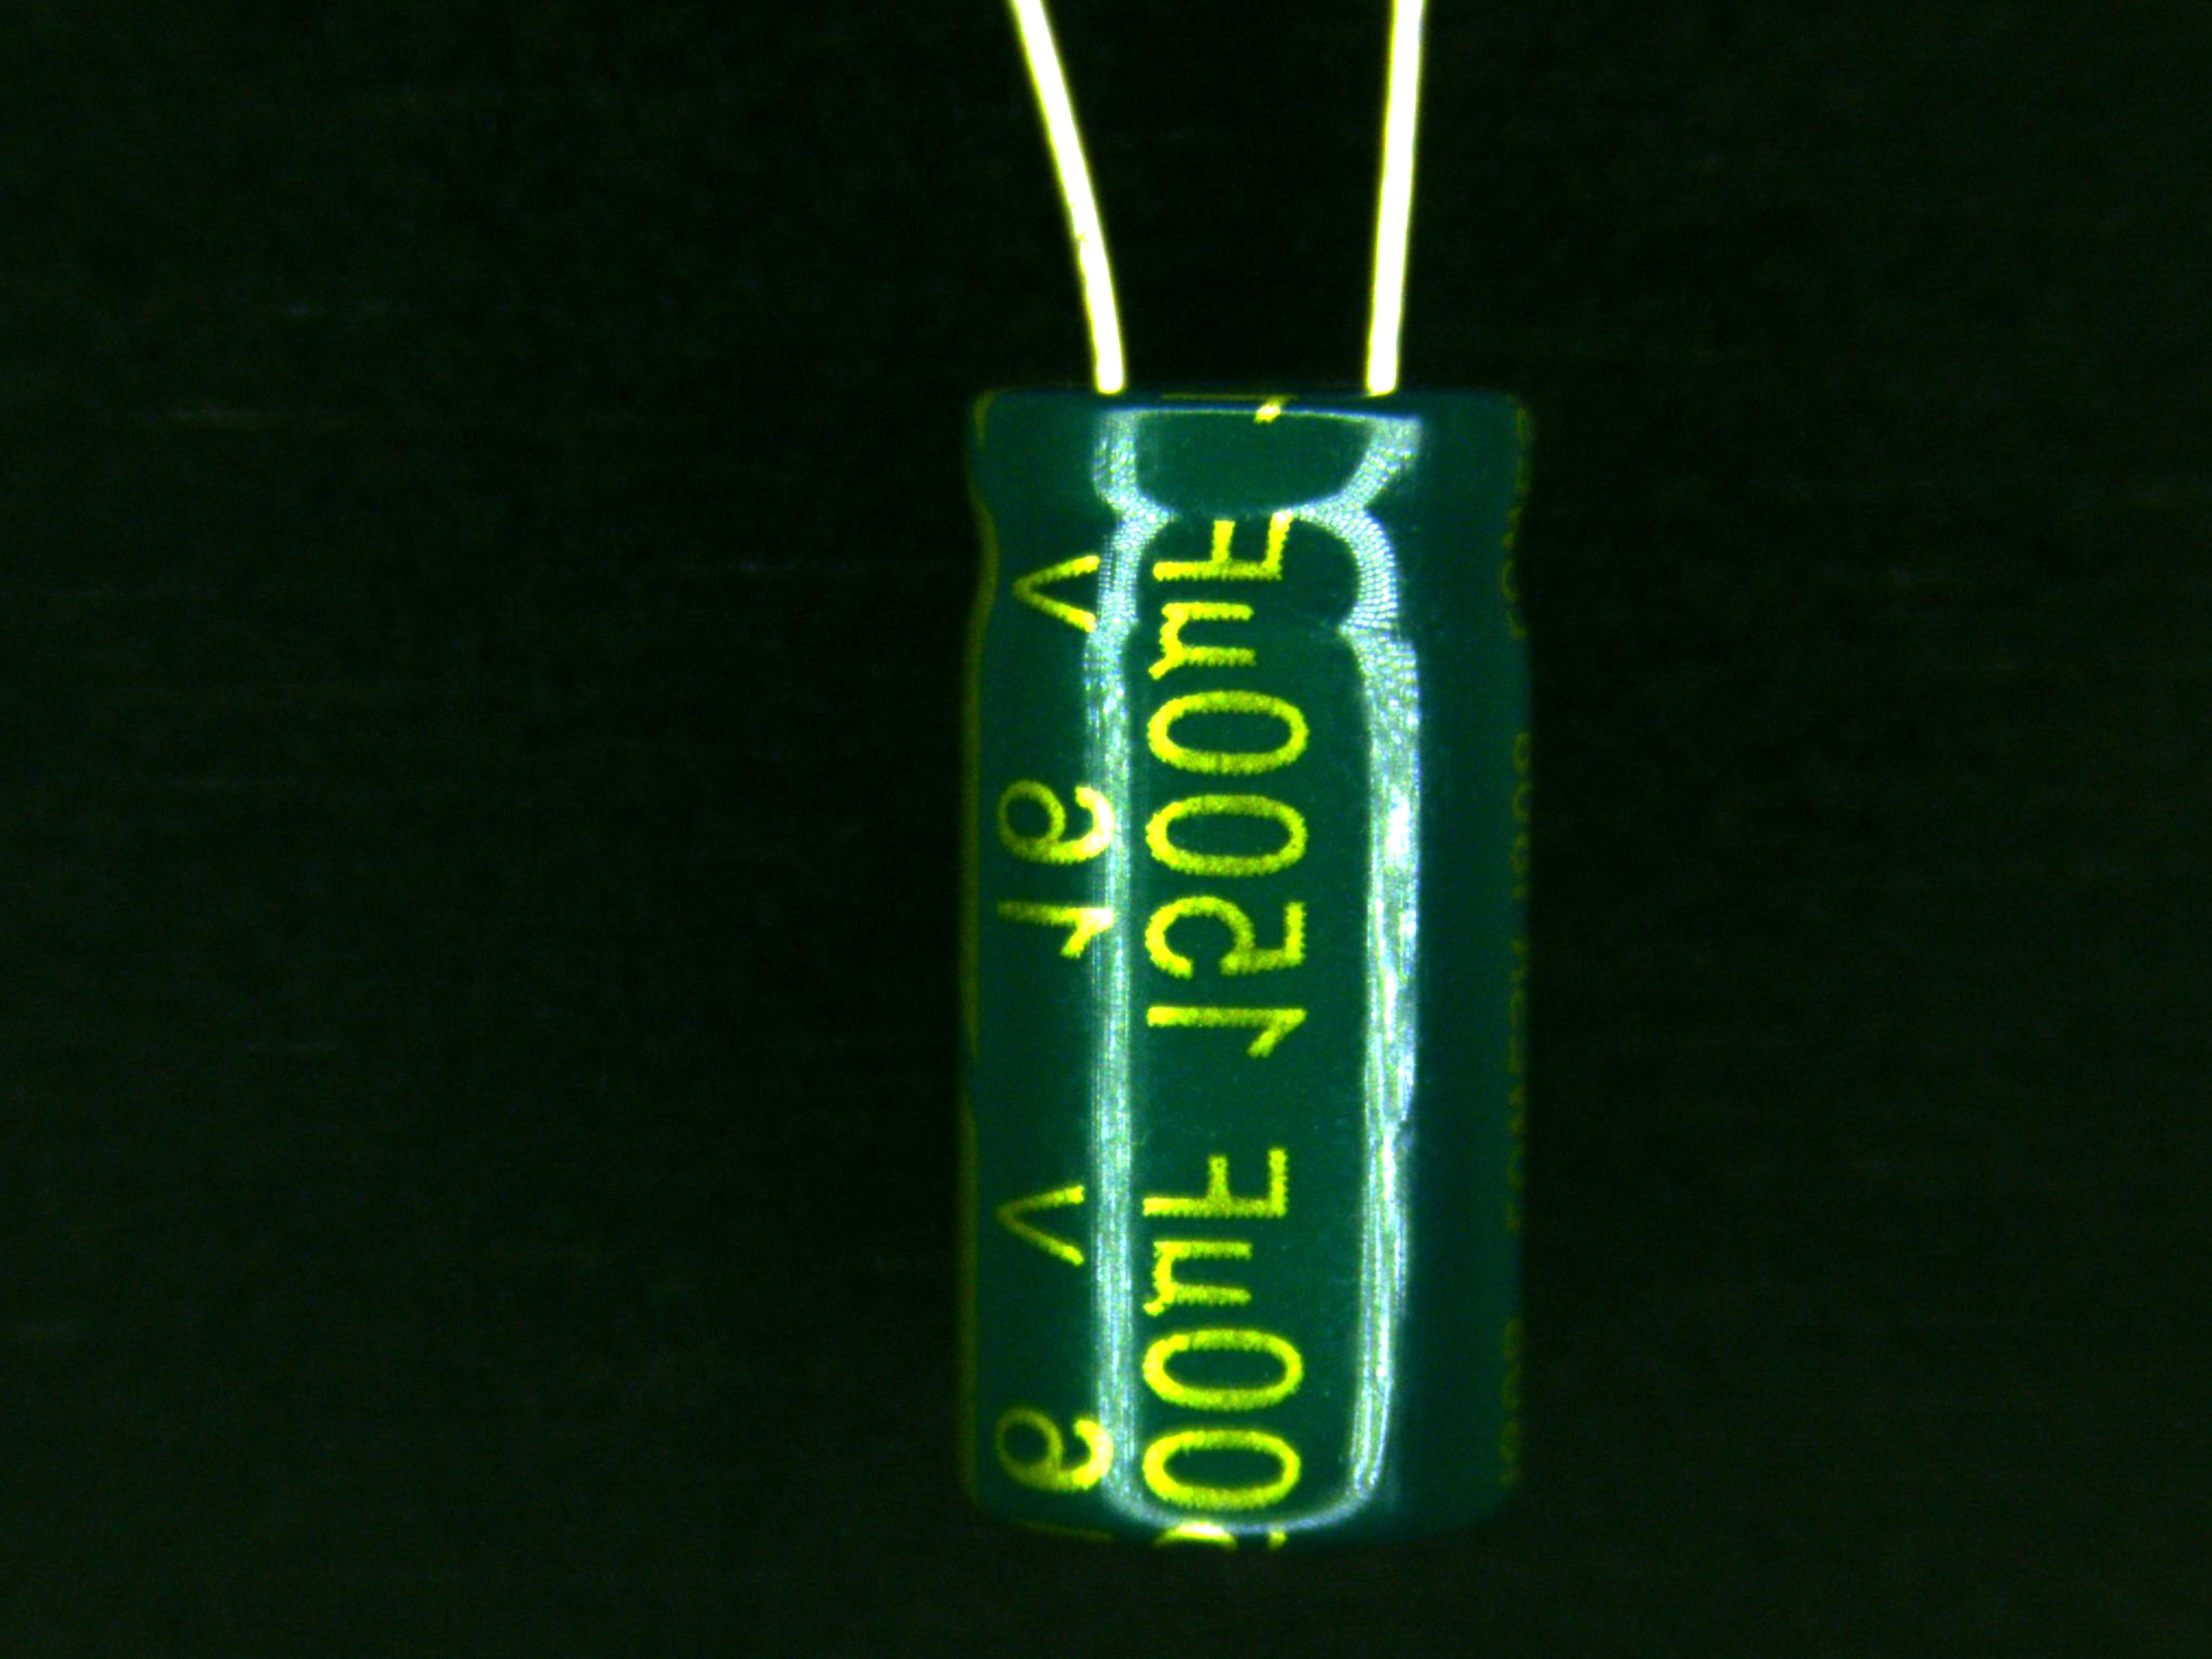c1: (941, 214, 1550, 1558)
